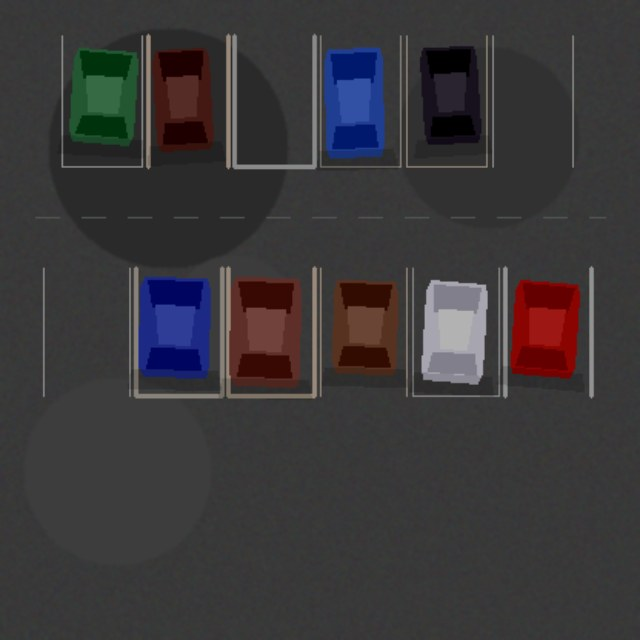space-empty: (43, 268, 129, 395), (234, 35, 314, 166), (492, 35, 572, 166)
space-occupied: (135, 268, 222, 395), (228, 268, 314, 395), (320, 268, 406, 395), (412, 268, 498, 395), (505, 268, 591, 395), (62, 35, 142, 166), (148, 35, 228, 166), (320, 35, 400, 166), (406, 35, 486, 166)
